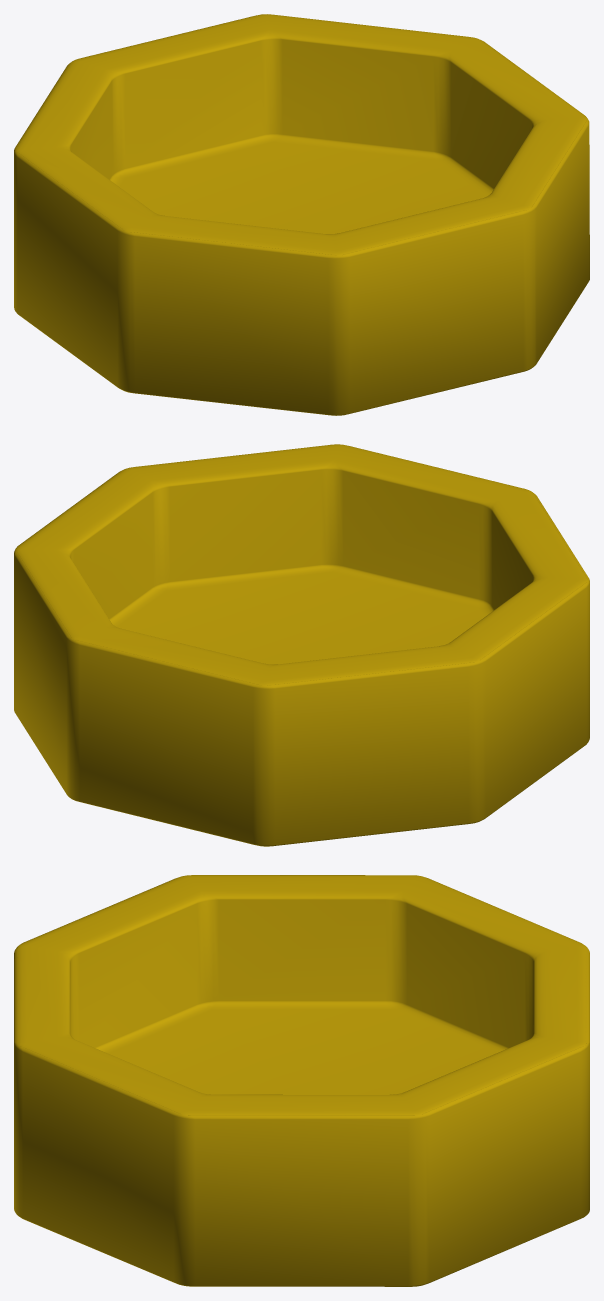
Rendered from HoneyComb1.fbx.
3 renders of one model, top to bottom at view 1: azimuth 30°, elevation 25°; view 2: azimuth 150°, elevation 25°; view 3: azimuth 270°, elevation 25°, orthographic. The views are drawn at different scales.
Parts seen in each view (by area): view 1: HoneyComb; view 2: HoneyComb; view 3: HoneyComb.
Part boxes in pixels (left/top/right/bottom): HoneyComb: left=14, top=14, right=589, bottom=415; HoneyComb: left=14, top=444, right=589, bottom=846; HoneyComb: left=14, top=875, right=589, bottom=1286.
Size of the model in its own units: 185 by 61.43 by 185.
